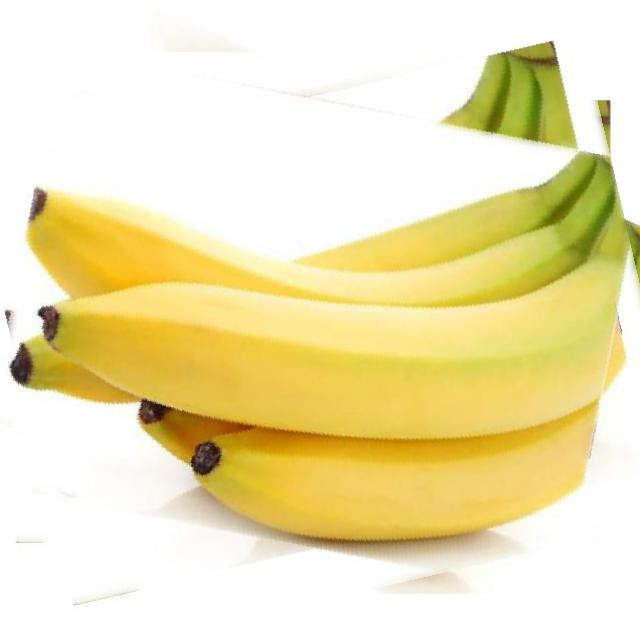Madura: (0, 19, 640, 626)
